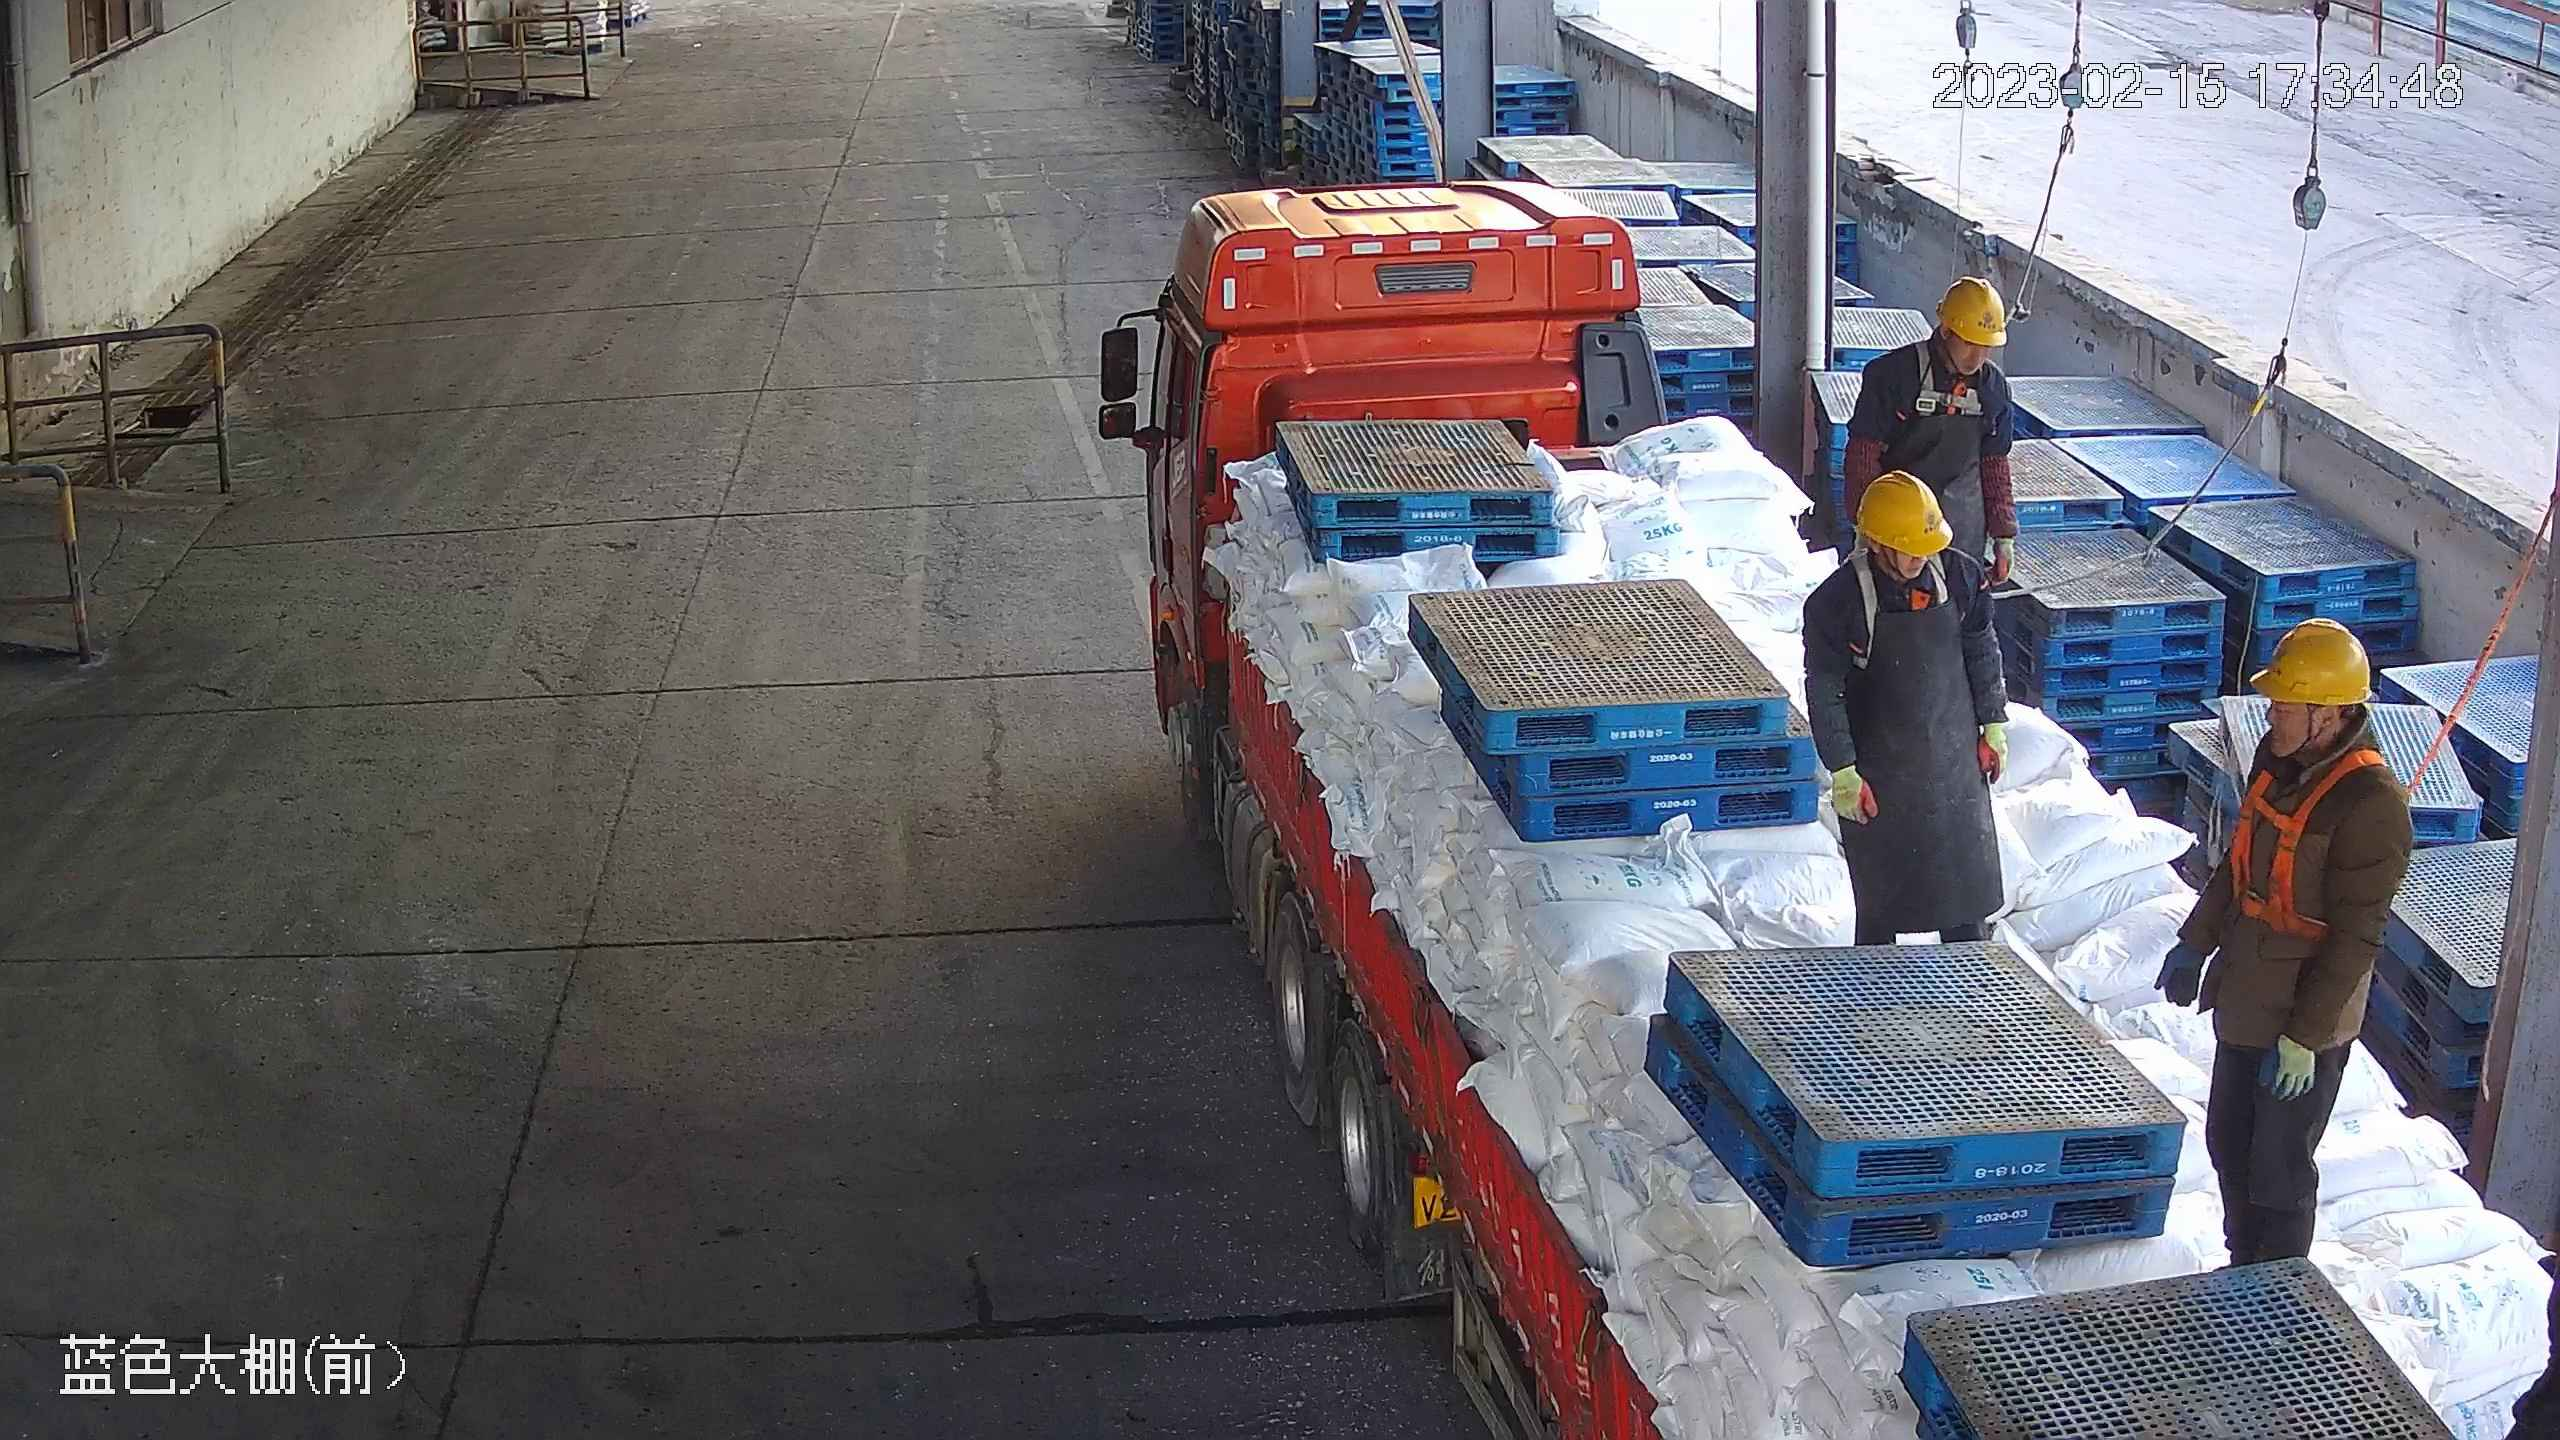belt: (2226, 747, 2427, 940), (1844, 549, 2016, 651), (1905, 335, 2022, 422)
head: (2239, 617, 2416, 841), (1797, 469, 1995, 614), (1847, 274, 2017, 408)
helmet: (2248, 616, 2373, 707), (1856, 469, 1955, 559), (1933, 274, 2007, 347)
people: (2149, 618, 2418, 1279), (1799, 468, 2011, 948), (1839, 274, 2021, 591)
truck: (1141, 182, 2560, 1440)
